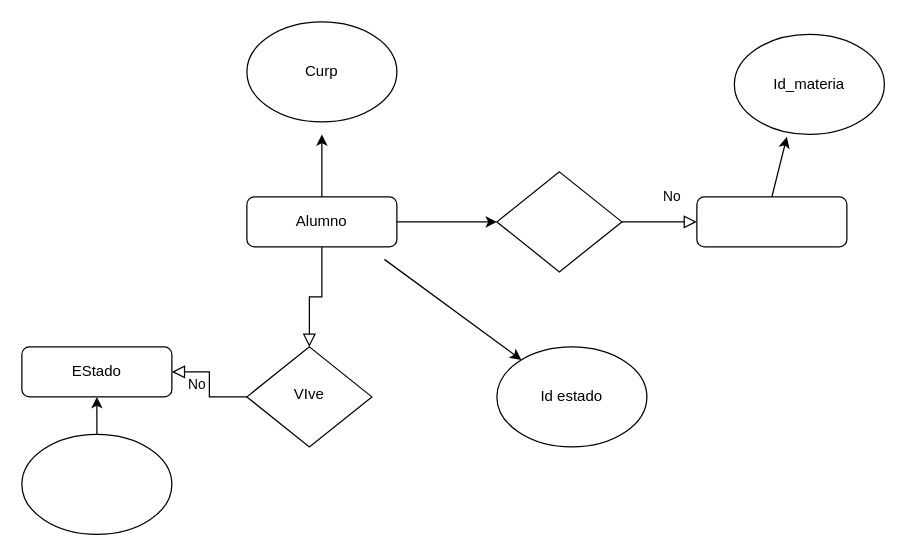
This 906x556 diagram has some shape labels left out. The box of each missing label's shape, as (x1, y1, x2, y2) in pixels:
ID_estado: (21, 433, 172, 534)
Materia: (696, 196, 847, 247)
Tiene: (496, 171, 622, 272)
